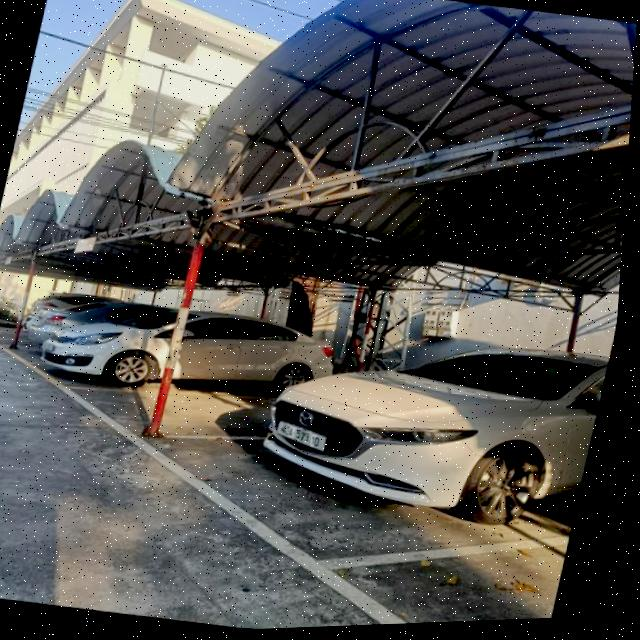car: (236, 316, 613, 542), (0, 260, 356, 422)
plate: (268, 418, 334, 458)
